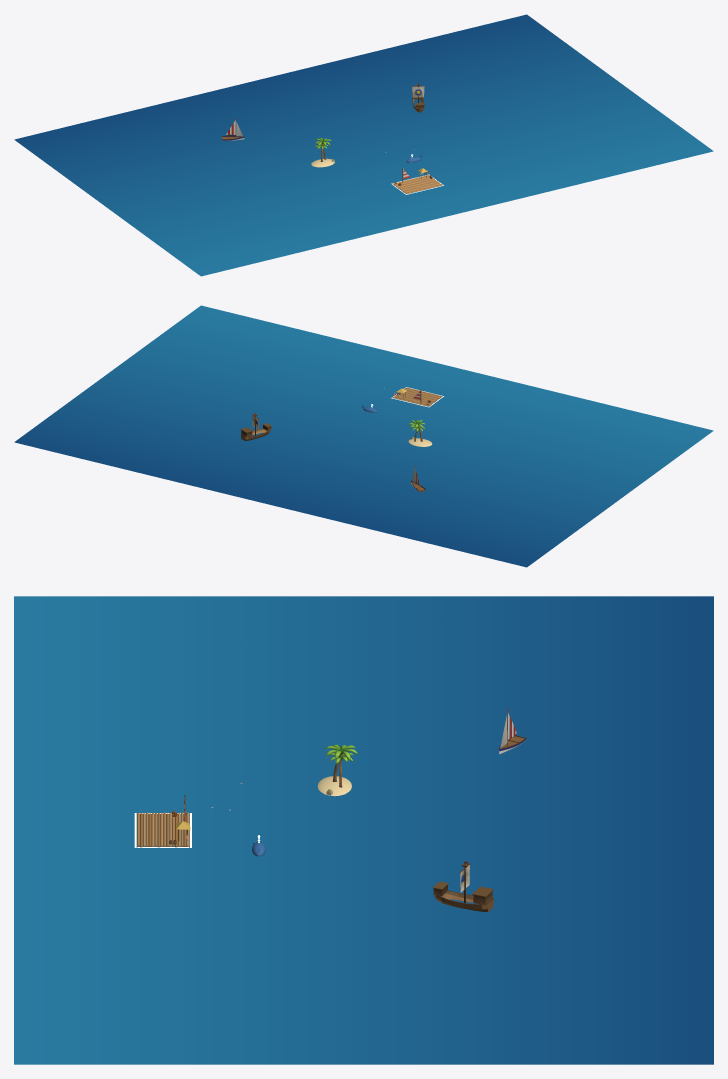
The model's file is ocean.glb.
3 renders of one model, top to bottom at view 1: azimuth 30°, elevation 25°; view 2: azimuth 150°, elevation 25°; view 3: azimuth 270°, elevation 25°, orthographic. The views are drawn at different scales.
Visible parts, largest first — view 1: Sea; view 2: Sea, Ship; view 3: Sea, Ship.
Part boxes in pixels (x1,y1,x2,y2): Sea: [14, 14, 713, 276]; Sea: [14, 305, 713, 567]; Ship: [240, 413, 271, 440]; Sea: [14, 596, 713, 1064]; Ship: [432, 861, 493, 911].
Size of the model in its own units: 190 by 10.77 by 120.
